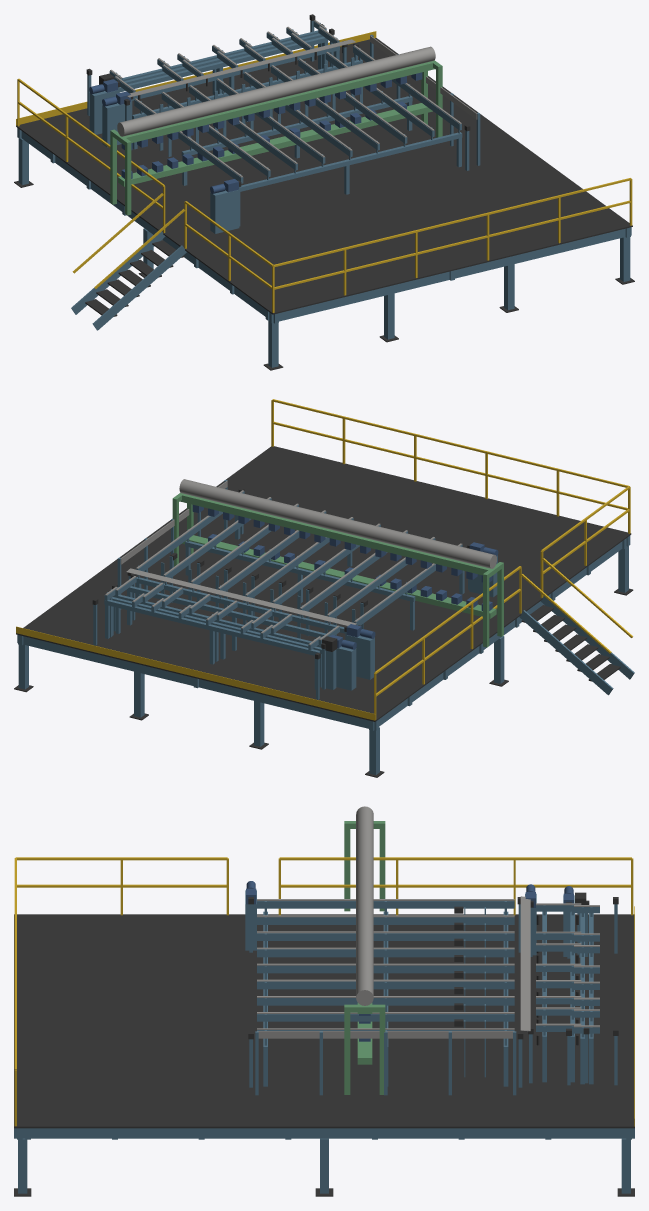
File: board_deck_frame.glb
3 renders of one model, top to bottom at view 1: azimuth 30°, elevation 25°; view 2: azimuth 150°, elevation 25°; view 3: azimuth 270°, elevation 25°, orthographic. The views are drawn at different scales.
Visible parts, largest first — view 1: BD_FrameMesh; view 2: BD_FrameMesh; view 3: BD_FrameMesh.
Part boxes in pixels (left/top/right/bottom): BD_FrameMesh: left=14, top=14, right=634, bottom=370; BD_FrameMesh: left=14, top=399, right=634, bottom=777; BD_FrameMesh: left=14, top=806, right=634, bottom=1196.
Size of the model in its own units: 10.96 by 3.38 by 10.75.
